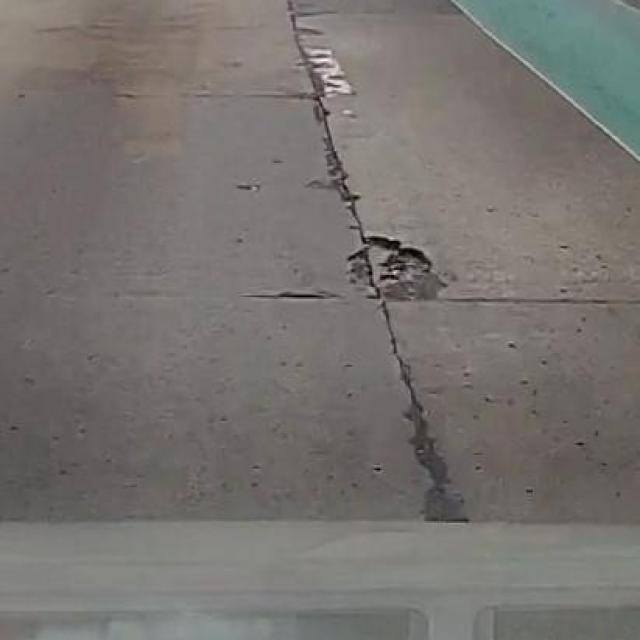Pothole: (345, 230, 448, 304)
